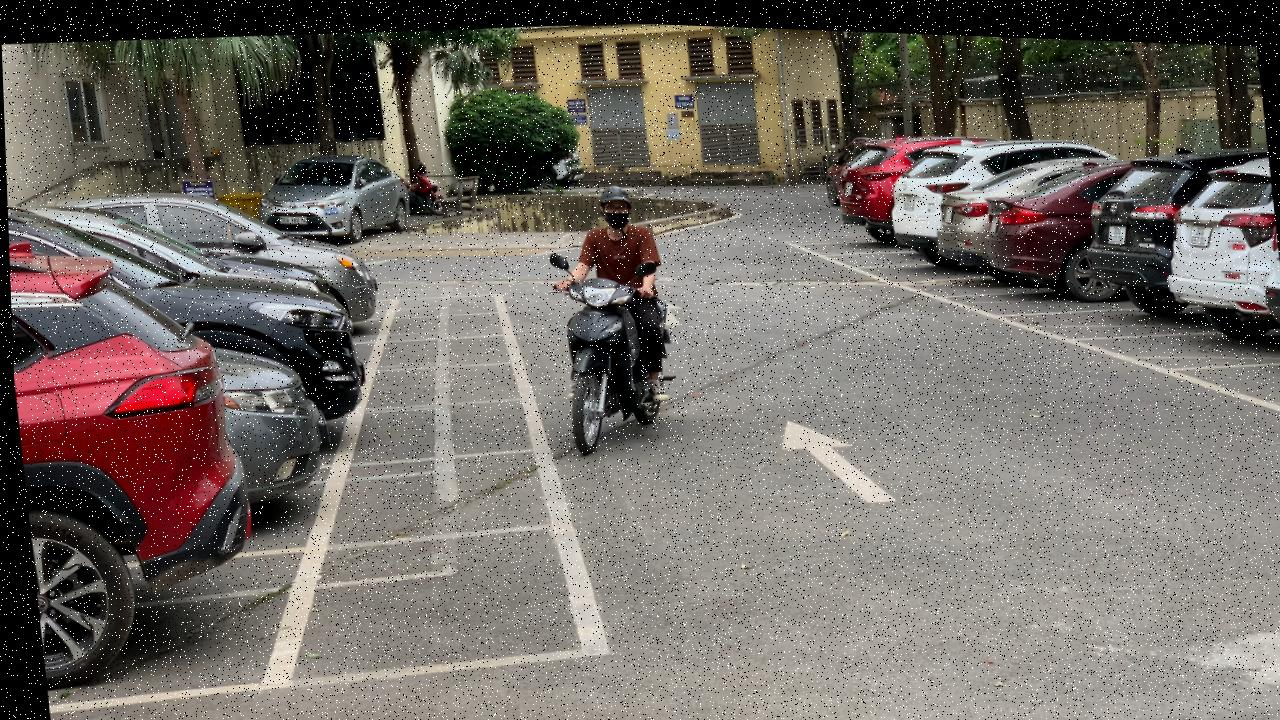helmet: (597, 179, 629, 202)
motorcyclist: (536, 175, 687, 455)
